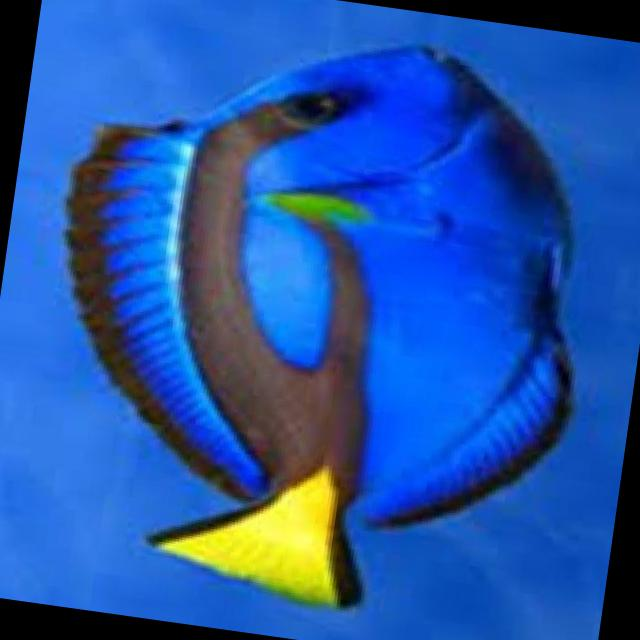BlueTang: (20, 0, 617, 632)
